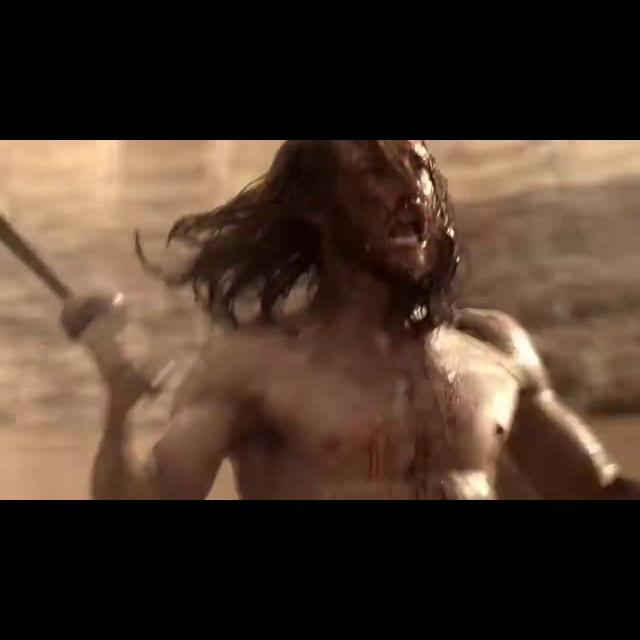blood: (336, 343, 458, 500), (336, 140, 458, 296)
